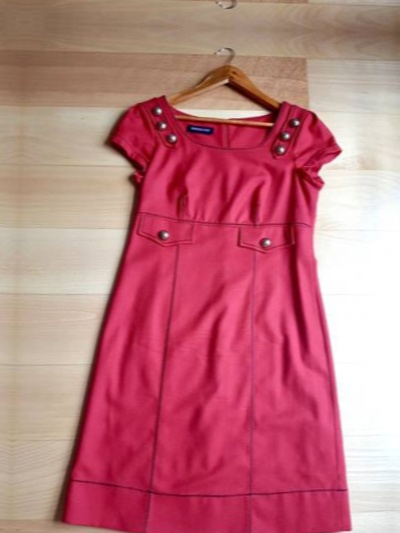Dress: (36, 74, 372, 533)
